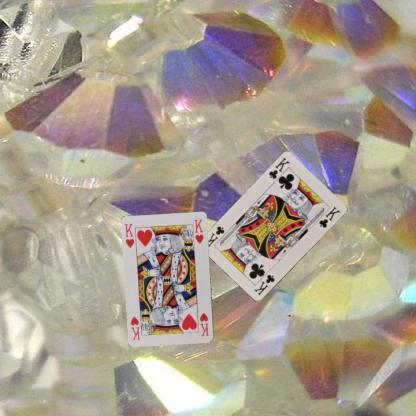Kc: (266, 155, 291, 181), (252, 272, 276, 297)
Kh: (122, 221, 136, 249), (198, 310, 210, 338)
